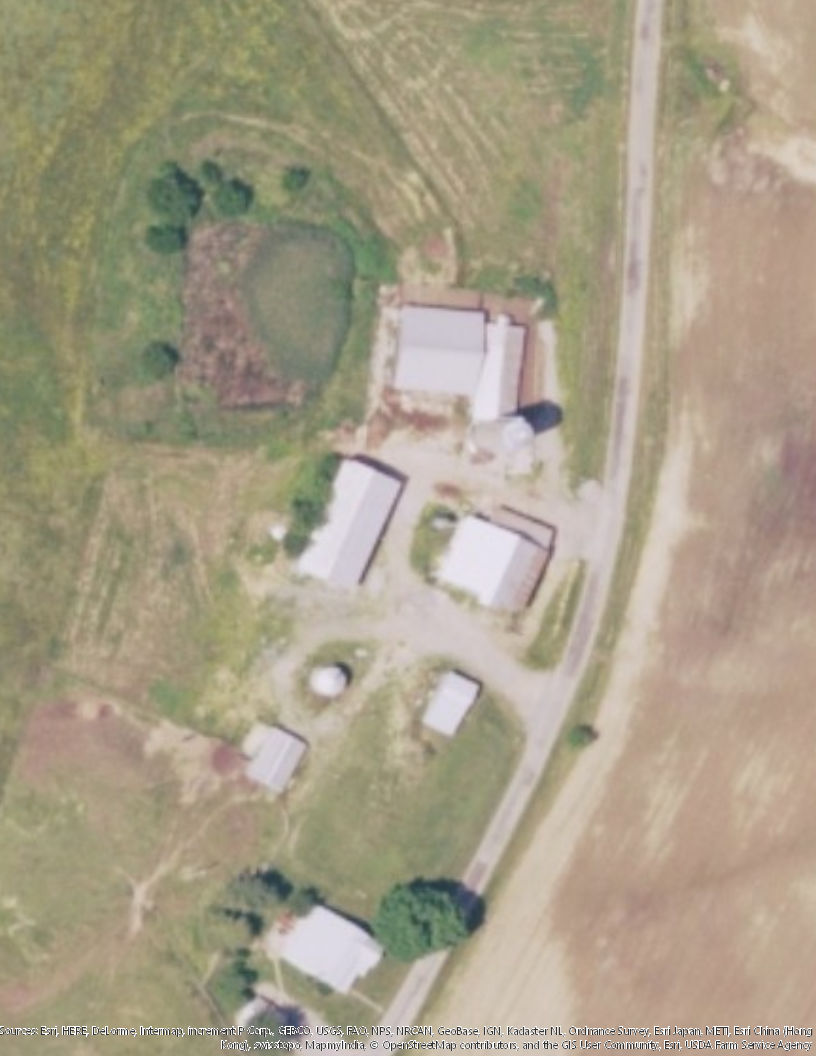cafo: (382, 293, 542, 439), (290, 451, 410, 595), (430, 501, 566, 619)
